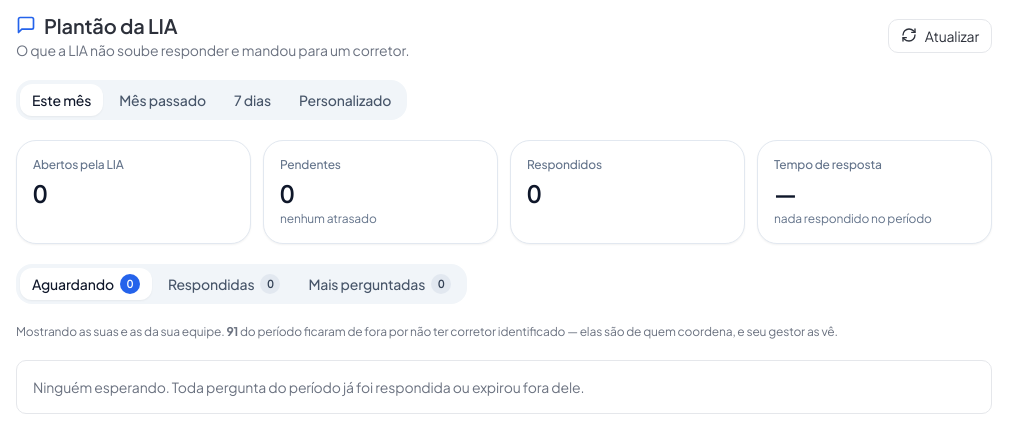
Test: a aba Respondidas vazia também tem dois motivos › com perguntas escondidas, a tela diz que são as que ELE pode ver
Click the button "Respondidas 0".
click(224, 284)  # box [156,268,292,300]
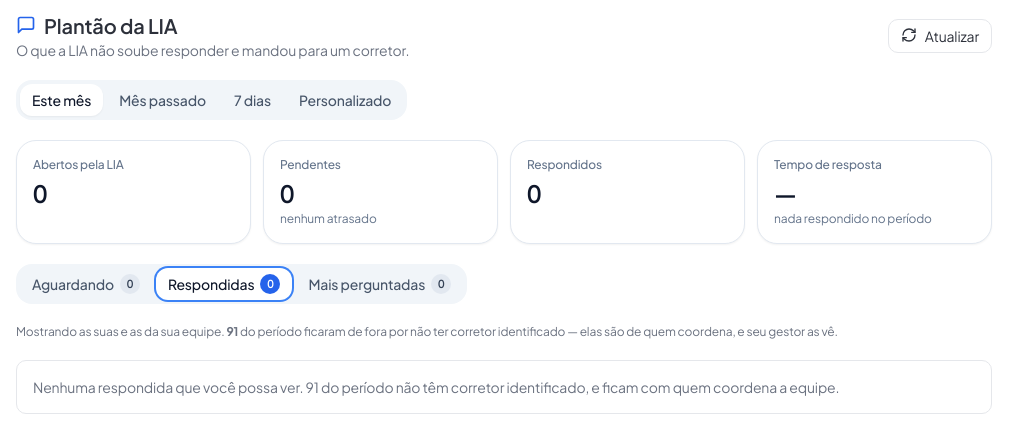
Expected: the text "não têm corretor identificado" is shown, [33,378,839,396]
